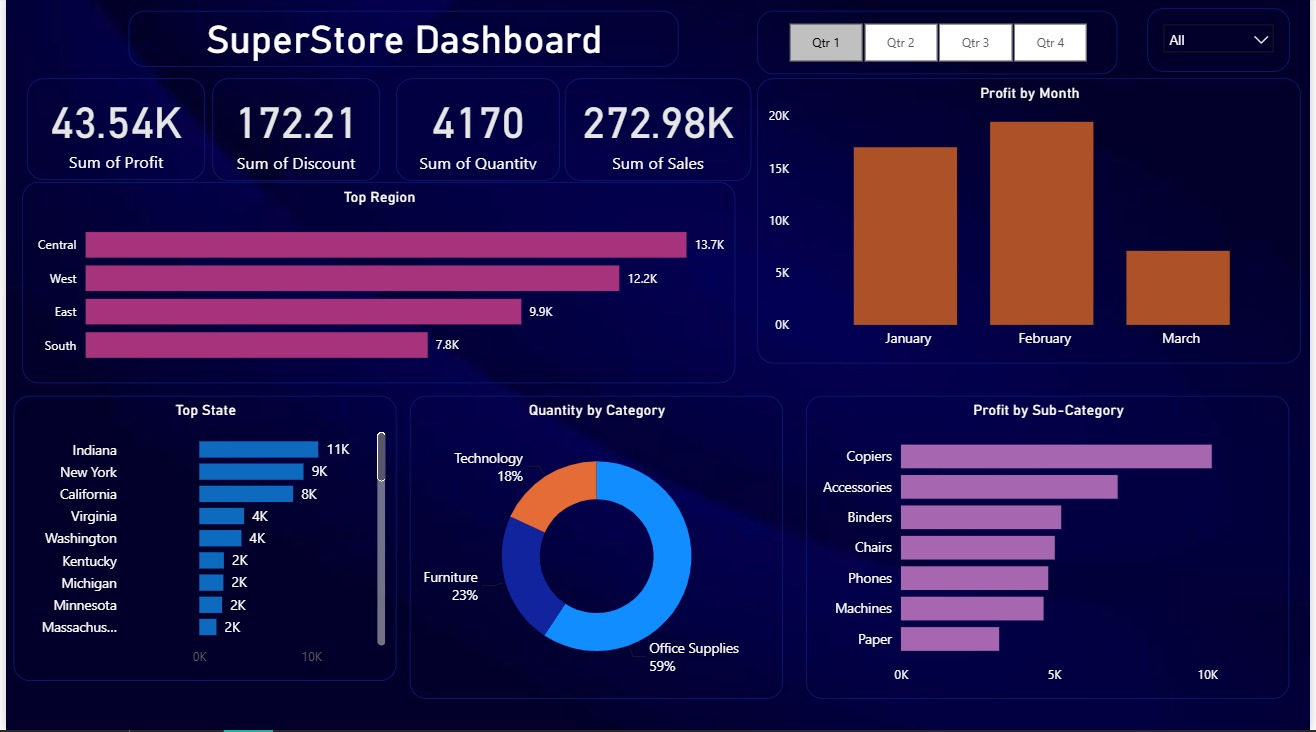

Layout of this report page (visuals, bound fields, positions):
{"tool":"powerbi","page":{"name":"Page 1","canvas":[1280,720],"ordinal":0},"visuals":[{"type":"columnChart","title":"Profit by Month","fields":{"Category":["FactSales.Order Date.Variation.Date Hierarchy.Month"],"Y":["Sum(DimProducts.Profit)"]},"box":[736.9,79.6,533.8,279.9],"z":0},{"type":"barChart","title":"Profit by Sub-Category","fields":{"Category":["DimProducts.Sub-Category"],"Y":["Sum(DimProducts.Profit)"]},"box":[784.9,391.1,474.8,297.8],"z":1000},{"type":"donutChart","title":" Quantity by Category","fields":{"Category":["DimProducts.Category"],"Y":["Sum(DimProducts.Quantity)"]},"box":[396.6,391.1,366.4,297.8],"z":2000},{"type":"barChart","title":"Top State","fields":{"Category":["FactSales.State"],"Y":["Sum(DimProducts.Profit)"]},"box":[6.9,391.1,376,279.9],"z":3000},{"type":"card","fields":{"Values":["Sum(DimProducts.Profit)"]},"box":[20.6,79.6,174.3,100.2],"z":4000},{"type":"card","fields":{"Values":["Sum(DimProducts.Discount)"]},"box":[202.5,79.8,164.4,100.6],"z":5000},{"type":"card","fields":{"Values":["Sum(DimProducts.Quantity)"]},"box":[382.8,79.8,160.7,100.6],"z":6000},{"type":"card","fields":{"Values":["Sum(DimProducts.Sales)"]},"box":[548.5,79.8,182.8,100.6],"z":7000},{"type":"clusteredBarChart","title":"Top Region","fields":{"Category":["FactSales.Region"],"Y":["Sum(DimProducts.Profit)"]},"box":[16.5,181.1,699.8,197.6],"z":8000},{"type":"textbox","title":"SuperStore Dashboard","box":[120.2,13.5,539.9,55.2],"z":9000},{"type":"slicer","fields":{"Values":["FactSales.Order Date.Variation.Date Hierarchy.Quarter"]},"box":[737.4,13.5,353.4,62.6],"z":10000},{"type":"slicer","fields":{"Values":["FactSales.State"]},"box":[1120.3,11,139.9,62.6],"z":11000}]}

Visuals, with their boxes in screenshot pixels (x1, y1, x2, y2), scaled from the page's 1280x720 canvas onto the 1316x732 screenshot:
"Profit by Month" columnChart: box=[758, 81, 1306, 365]
"Profit by Sub-Category" barChart: box=[807, 398, 1295, 700]
" Quantity by Category" donutChart: box=[408, 398, 784, 700]
"Top State" barChart: box=[7, 398, 394, 682]
card - Sum(DimProducts.Profit): box=[21, 81, 200, 183]
card - Sum(DimProducts.Discount): box=[208, 81, 377, 183]
card - Sum(DimProducts.Quantity): box=[394, 81, 559, 183]
card - Sum(DimProducts.Sales): box=[564, 81, 752, 183]
"Top Region" clusteredBarChart: box=[17, 184, 736, 385]
"SuperStore Dashboard" textbox: box=[124, 14, 679, 70]
slicer - FactSales.Order Date.Variation.Date Hierarchy.Quarter: box=[758, 14, 1121, 77]
slicer - FactSales.State: box=[1152, 11, 1296, 75]
